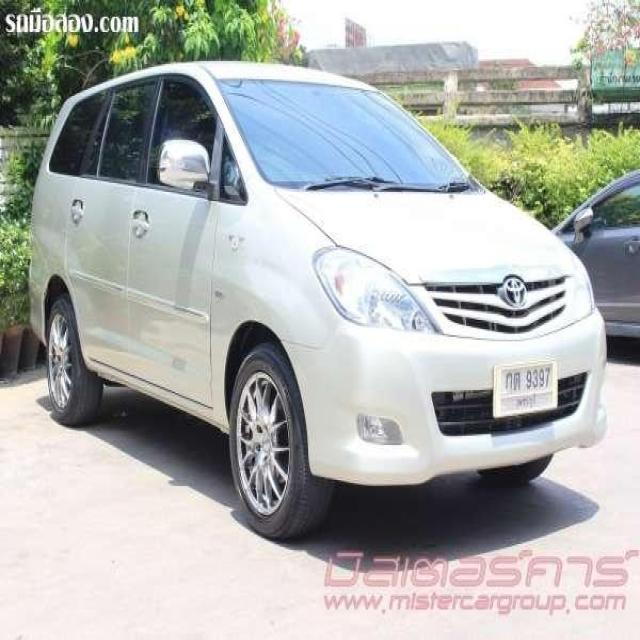light_vehicle: (28, 59, 609, 541)
